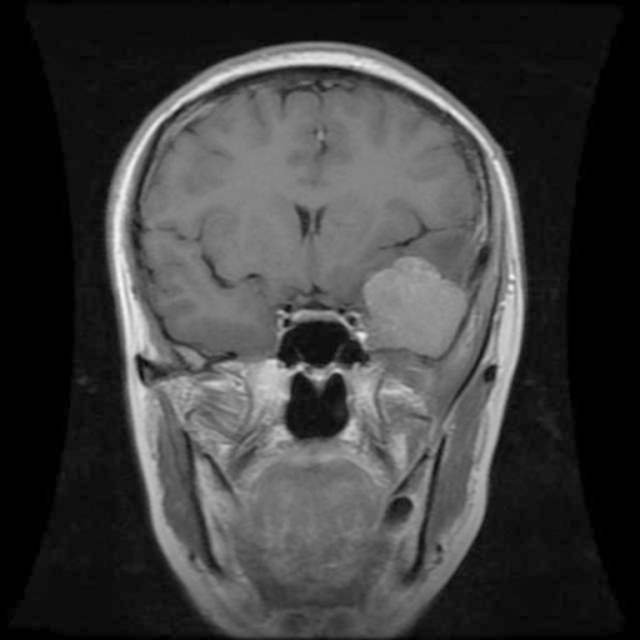meningioma tumor: (356, 250, 472, 370)
